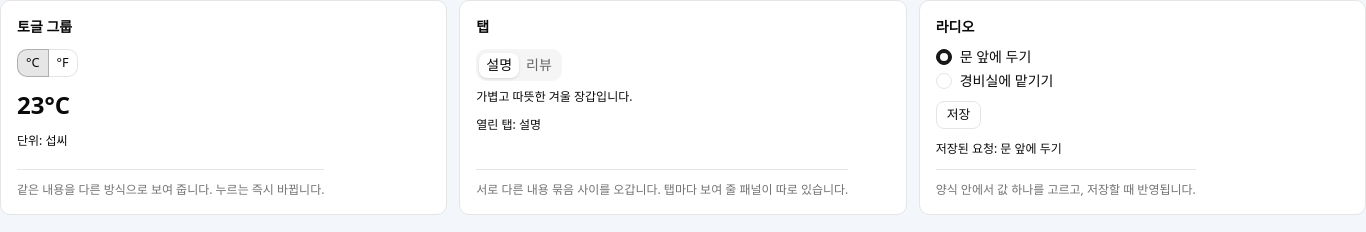
Test: comparison: the toggle changes the look at once, tabs swap panels, the radio applies on save
Click the radio button labelled "°F" at [63, 63], box [49,49,78,77]
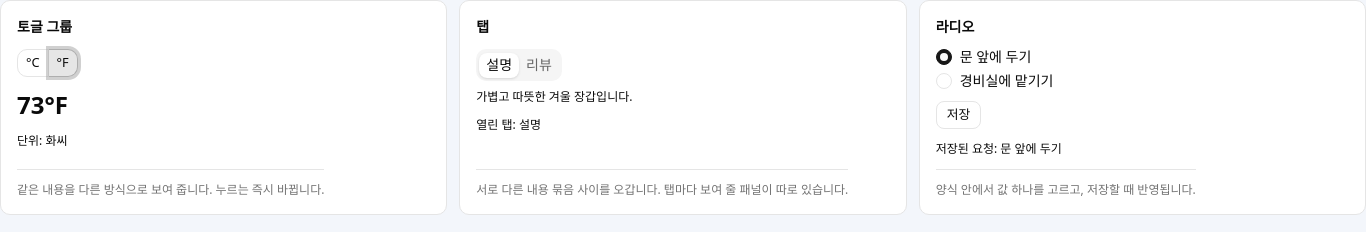
Now the text "73°F" is shown, box [17,89,68,121]
Now the text "단위: 화씨" is shown, box [17,133,68,149]
Click the tab "리뷰" at [539, 65], box [519,52,559,78]
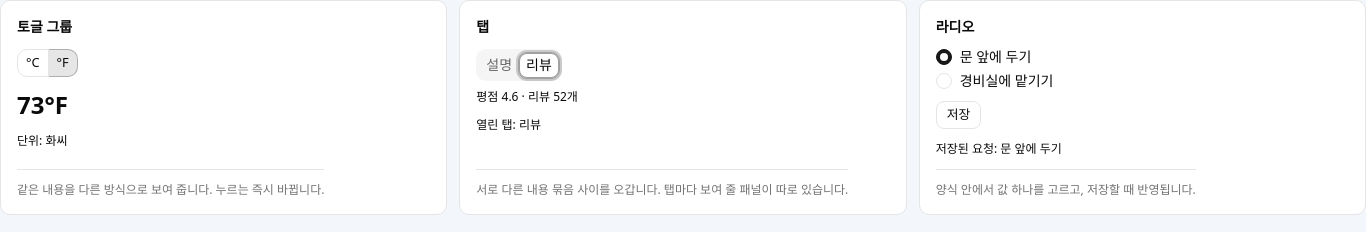
Now the panel shows "리뷰 52개", box [476,88,578,105]
Now the text "열린 탭: 리뷰" is shown, box [476,117,541,133]
Click the radio button named "경비실에 맡기기" next to "경비실에 맡기기" at [944, 81], box [936,73,952,89]
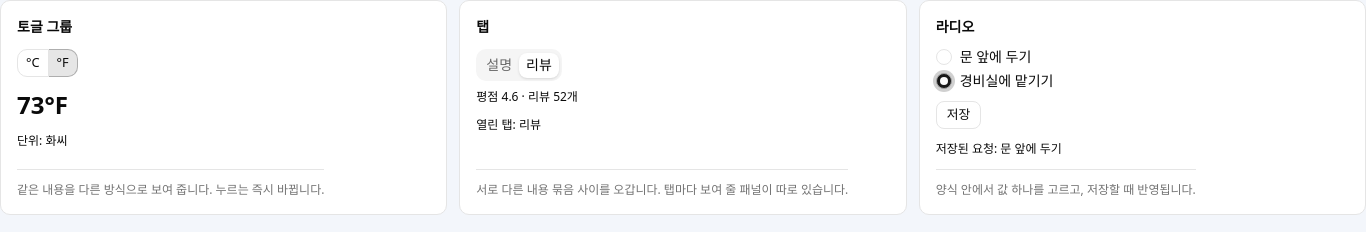
Expected: the text "저장된 요청: 문 앞에 두기" is shown, [936,141,1062,157]
Click the button "저장" at [958, 115], box [936,101,981,129]
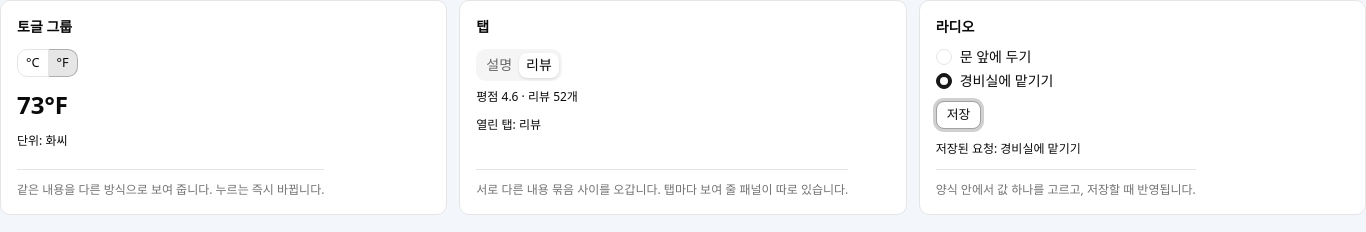
Now the text "저장된 요청: 경비실에 맡기기" is shown, box [936,141,1081,157]
